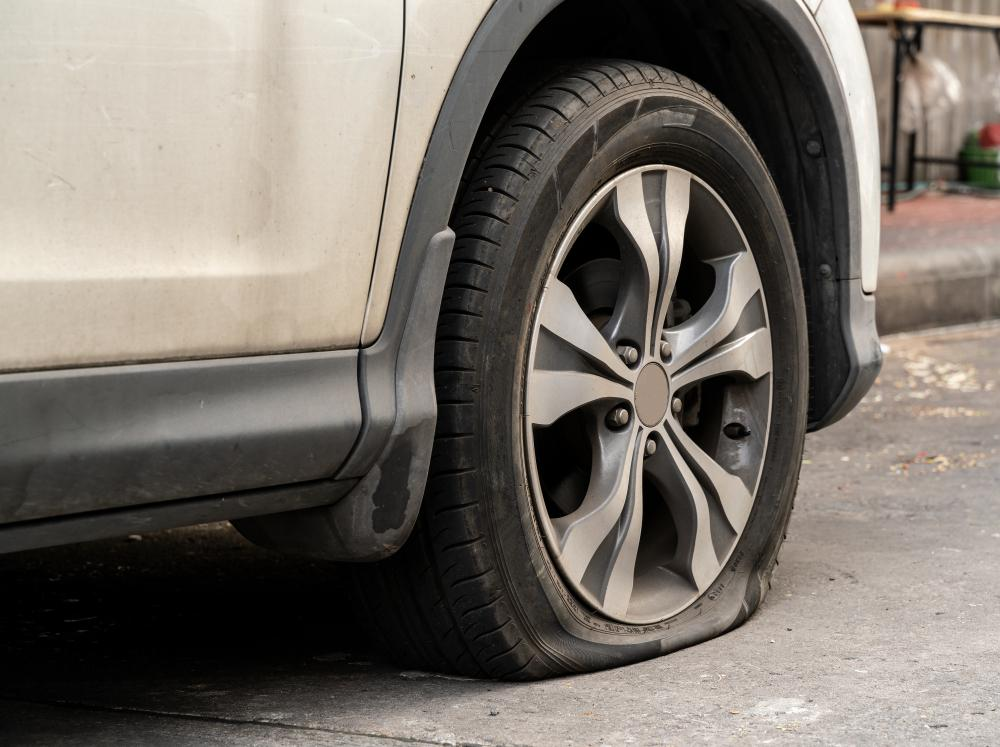tire flat: (440, 58, 812, 685)
